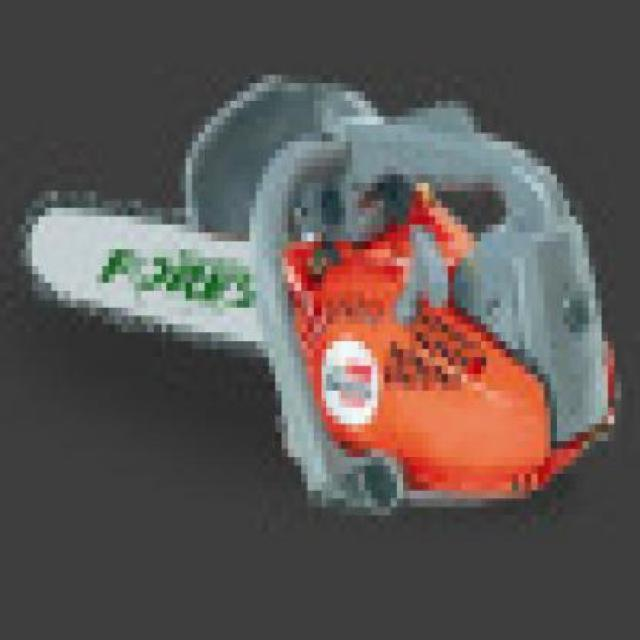Chainsaw: (6, 68, 622, 524)
